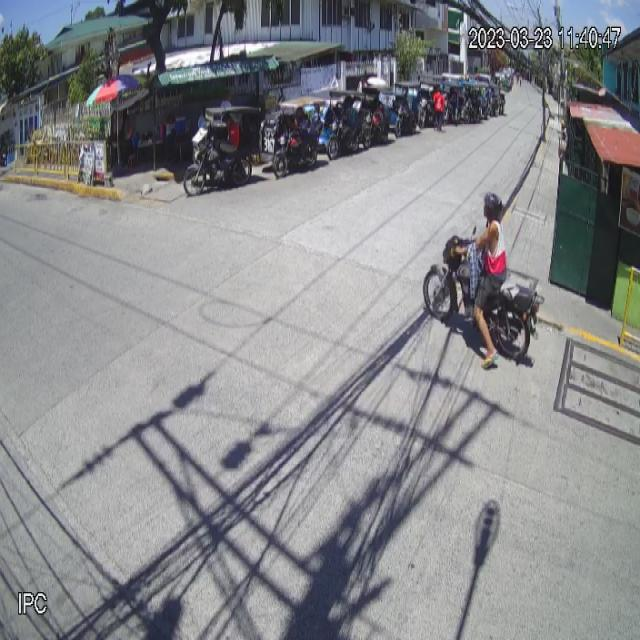Motorcycle: (422, 223, 546, 368)
